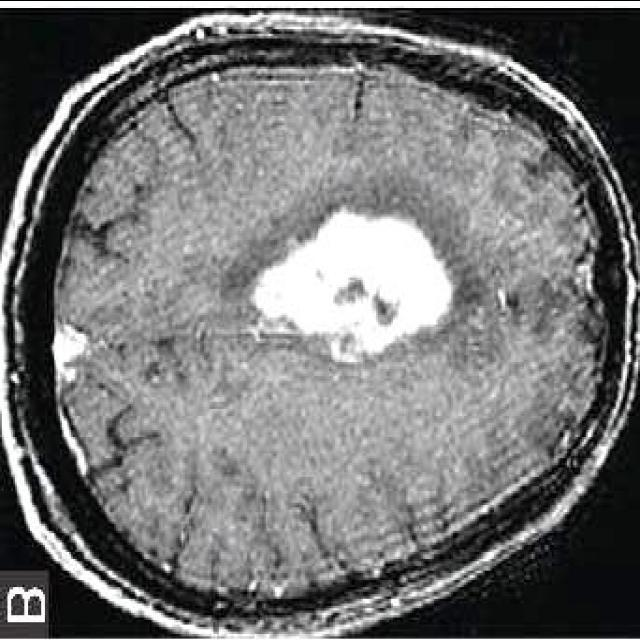tumor: (249, 206, 457, 361)
